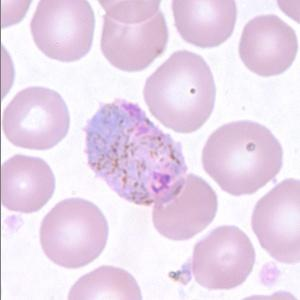Infected: (84, 97, 188, 207)
Uninfected: (201, 120, 283, 195), (144, 50, 217, 134), (38, 198, 110, 268), (102, 1, 169, 71), (191, 224, 257, 291), (251, 177, 300, 266), (2, 86, 70, 150), (152, 175, 218, 239), (29, 0, 94, 62), (239, 15, 298, 77), (0, 154, 55, 211), (173, 0, 237, 47)
